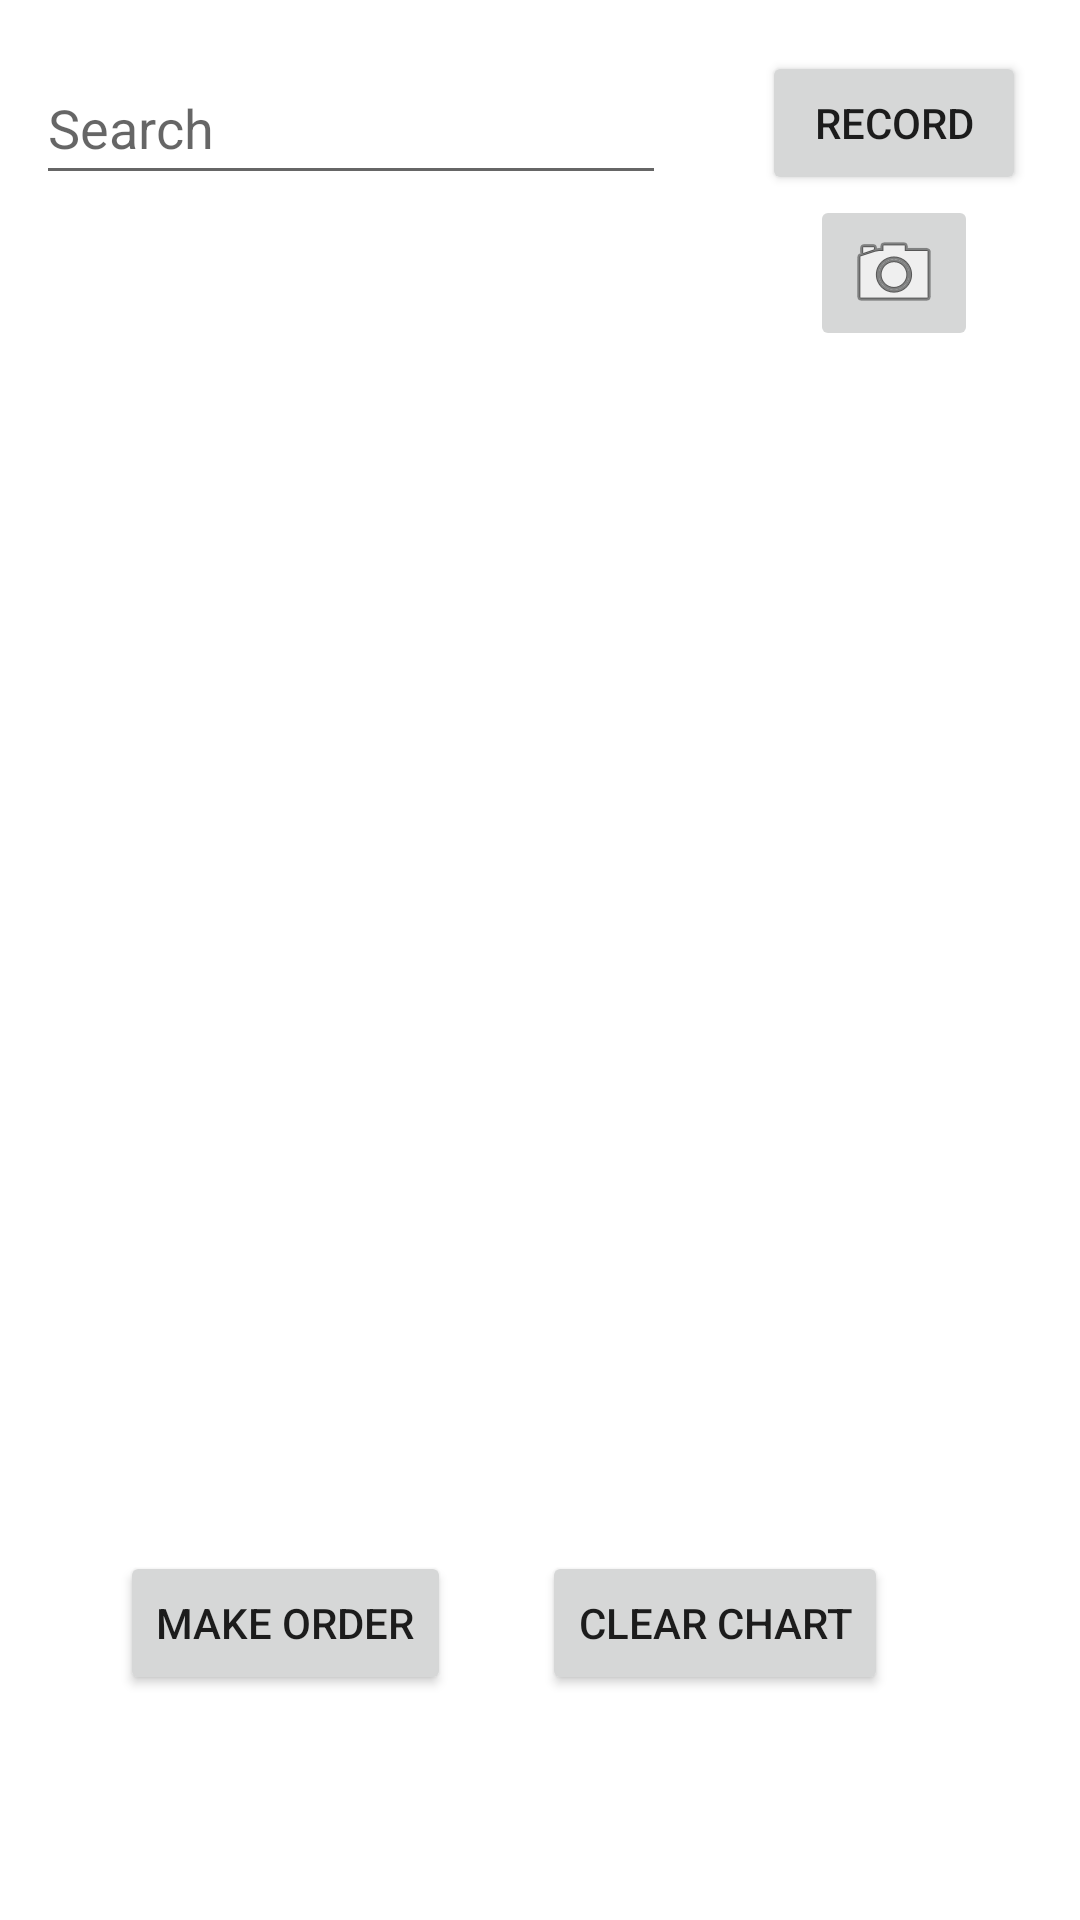

Point at icon controls on the screen. Image size 1080 × 1920, points as [x,y].
camera: [894,273]
